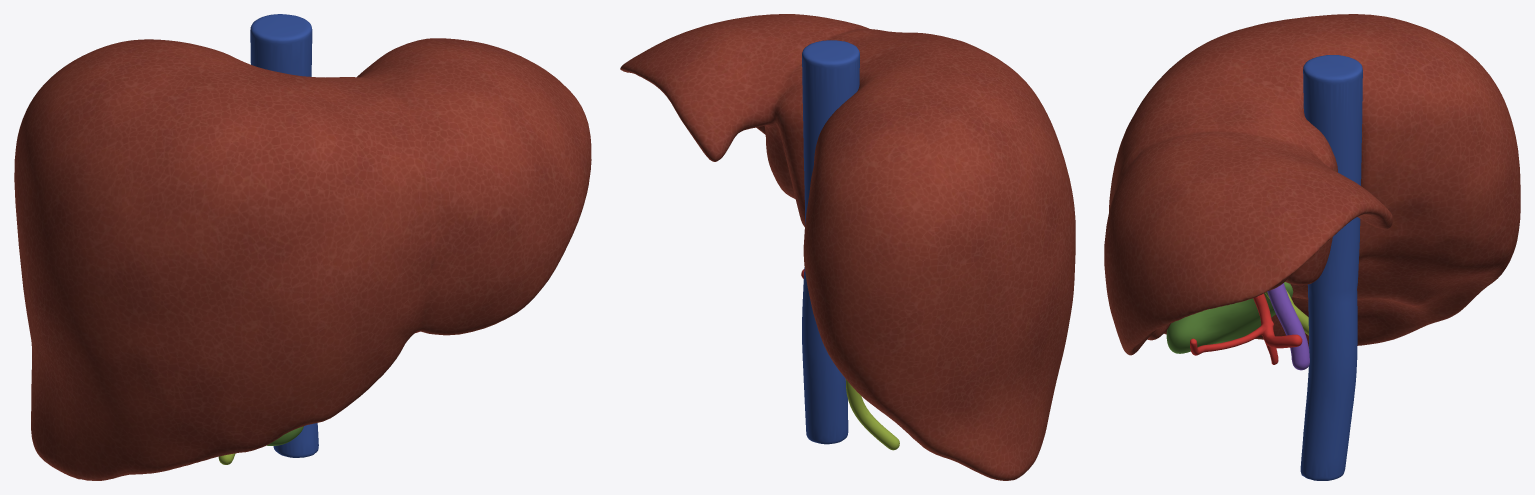
File: liver.glb
3 views of the same model, side by side, from view 1: azimuth 30°, elevation 25°; view 2: azimuth 150°, elevation 25°; view 3: azimuth 270°, elevation 25° (orthographic). The views are drawn at different scales.
Visible parts, largest first — view 1: parenquima, vena_cava_inferior; view 2: parenquima, vena_cava_inferior, conductos_biliares; view 3: parenquima, vena_cava_inferior, vesicula_biliar, arteria_hepatica, vena_porta.
Boxes of the visible parts, x1=… form: parenquima: x1=14, y1=38, x2=591, y2=480; vena_cava_inferior: x1=250, y1=14, x2=318, y2=457; parenquima: x1=620, y1=14, x2=1075, y2=480; vena_cava_inferior: x1=802, y1=40, x2=859, y2=444; conductos_biliares: x1=845, y1=379, x2=899, y2=450; parenquima: x1=1104, y1=14, x2=1520, y2=355; vena_cava_inferior: x1=1300, y1=55, x2=1362, y2=480; vesicula_biliar: x1=1166, y1=282, x2=1293, y2=353; arteria_hepatica: x1=1190, y1=293, x2=1302, y2=364; vena_porta: x1=1267, y1=283, x2=1309, y2=370.
Bounding box in the file's own units: 0.2085 × 0.1697 × 0.1589.
6 materials, 1 textured.
